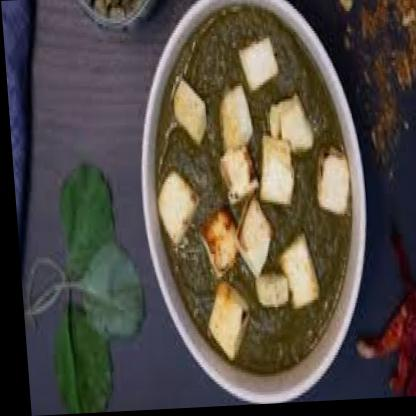palak_paneer: (141, 2, 357, 380)
